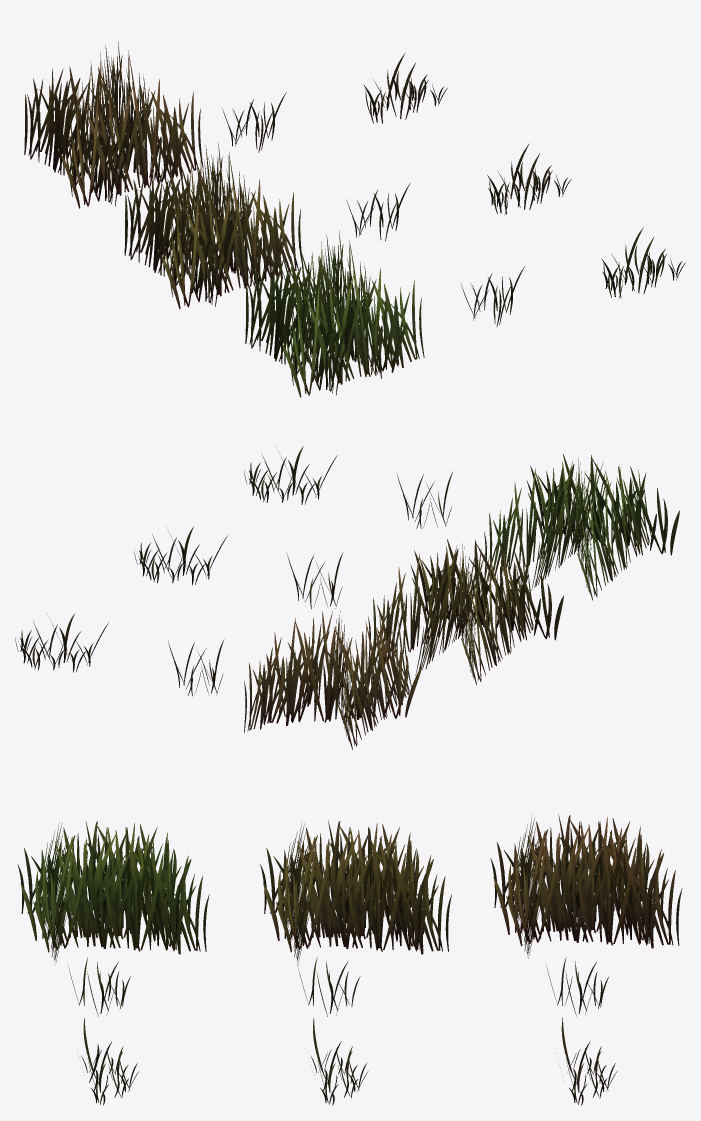
Rendered from grass.fbx.
3 renders of one model, top to bottom at view 1: azimuth 30°, elevation 25°; view 2: azimuth 150°, elevation 25°; view 3: azimuth 270°, elevation 25°, orthographic. The views are drawn at different scales.
Visible parts, largest first — view 1: green_tall_patch, mid_tall_patch, yellow_tall_patch, green_alpha_tall_grass.000, green_alpha_tall_grass.032, green_alpha_tall_grass.002, green_alpha_tall_grass.003, green_alpha_tall_grass.039, green_alpha_tall_grass.001; view 2: green_tall_patch, mid_tall_patch, yellow_tall_patch, green_alpha_tall_grass.032, green_alpha_tall_grass.002, green_alpha_tall_grass.000, green_alpha_tall_grass.003, green_alpha_tall_grass.001, green_alpha_tall_grass.039; view 3: yellow_tall_patch, green_tall_patch, mid_tall_patch, green_alpha_tall_grass.032, green_alpha_tall_grass.000, green_alpha_tall_grass.002, green_alpha_tall_grass.039, green_alpha_tall_grass.003, green_alpha_tall_grass.001.
Boxes of the visible parts, bbox=[...] form: green_tall_patch: bbox=[245, 230, 424, 397]; mid_tall_patch: bbox=[124, 143, 303, 309]; yellow_tall_patch: bbox=[24, 41, 203, 208]; green_alpha_tall_grass.000: bbox=[487, 143, 571, 215]; green_alpha_tall_grass.032: bbox=[601, 227, 685, 297]; green_alpha_tall_grass.002: bbox=[363, 53, 447, 123]; green_alpha_tall_grass.003: bbox=[222, 92, 286, 152]; green_alpha_tall_grass.039: bbox=[460, 266, 524, 326]; green_alpha_tall_grass.001: bbox=[346, 183, 410, 241]; green_tall_patch: bbox=[484, 454, 679, 600]; mid_tall_patch: bbox=[368, 539, 563, 684]; yellow_tall_patch: bbox=[244, 610, 422, 749]; green_alpha_tall_grass.032: bbox=[244, 446, 337, 504]; green_alpha_tall_grass.002: bbox=[15, 613, 108, 672]; green_alpha_tall_grass.000: bbox=[134, 526, 227, 585]; green_alpha_tall_grass.003: bbox=[168, 639, 224, 696]; green_alpha_tall_grass.001: bbox=[286, 552, 343, 609]; green_alpha_tall_grass.039: bbox=[396, 472, 452, 528]; yellow_tall_patch: bbox=[490, 814, 682, 958]; green_tall_patch: bbox=[17, 821, 209, 964]; mid_tall_patch: bbox=[260, 820, 451, 964]; green_alpha_tall_grass.032: bbox=[81, 1017, 138, 1105]; green_alpha_tall_grass.000: bbox=[310, 1017, 368, 1105]; green_alpha_tall_grass.002: bbox=[561, 1017, 617, 1105]; green_alpha_tall_grass.039: bbox=[68, 957, 130, 1016]; green_alpha_tall_grass.003: bbox=[546, 957, 609, 1016]; green_alpha_tall_grass.001: bbox=[297, 957, 360, 1016].
Size of the model in its own units: 278 by 76.67 by 374.
3 materials, 3 textured.
